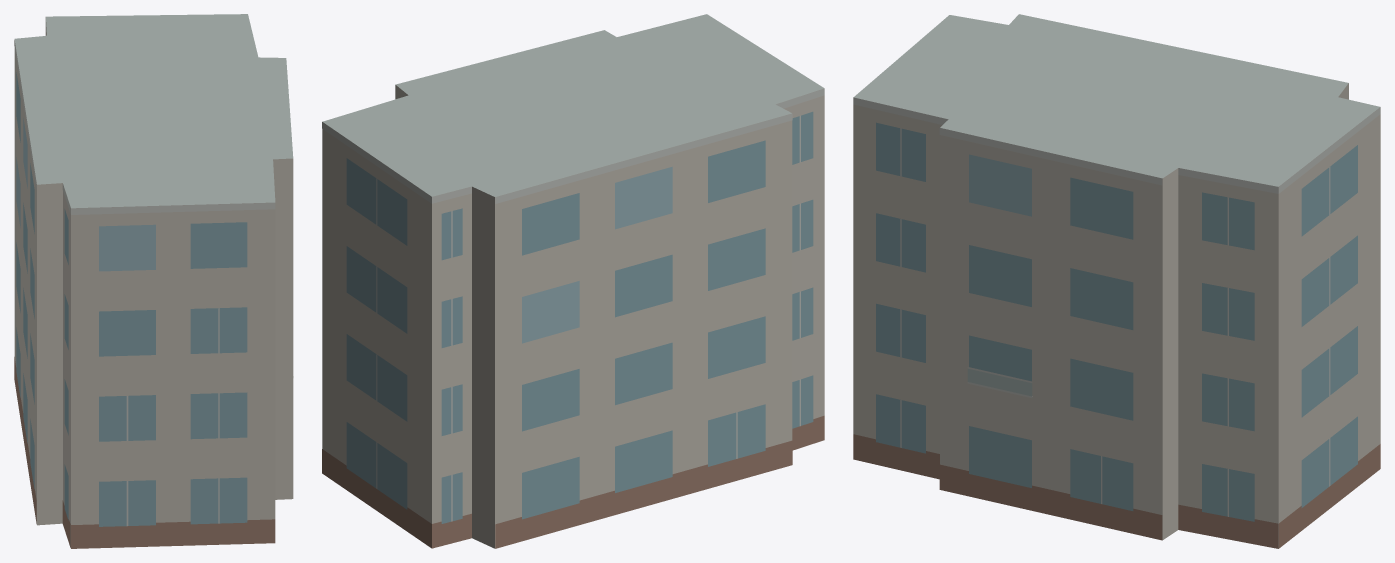
Rendered from survey-upis-32910463.glb.
3 renders of one model, left to right at view 1: azimuth 30°, elevation 25°; view 2: azimuth 150°, elevation 25°; view 3: azimuth 270°, elevation 25°, orthographic. The views are drawn at different scales.
Visible parts, largest first — view 1: survey-upis-32910463.tmp; view 2: survey-upis-32910463.tmp; view 3: survey-upis-32910463.tmp.
Boxes of the visible parts, x1,y1,x2,y2 form: survey-upis-32910463.tmp: (14, 14, 293, 548); survey-upis-32910463.tmp: (322, 14, 824, 548); survey-upis-32910463.tmp: (853, 14, 1380, 548).
Bounding box in the file's own units: 12.6 × 12.3 × 16.24.
